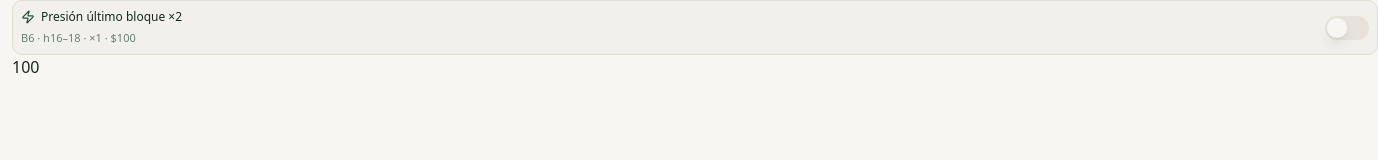
Scenario: Bloques final-block press › selects ×2 and restores ×1 when switched off
Click the switch: click(1347, 28) [1325,16,1369,40]
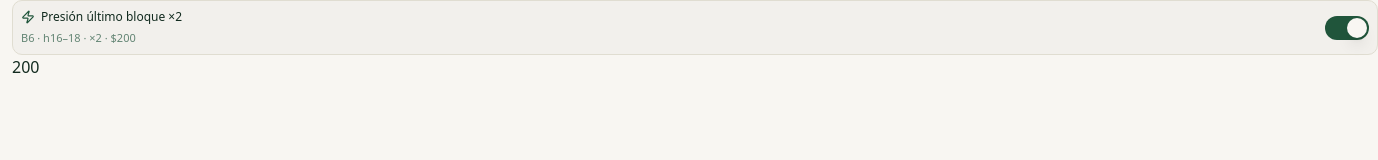
Expected: the text with test id "stake" reads "200", [12,56,40,78]
Click the switch: click(1347, 28) [1325,16,1369,40]
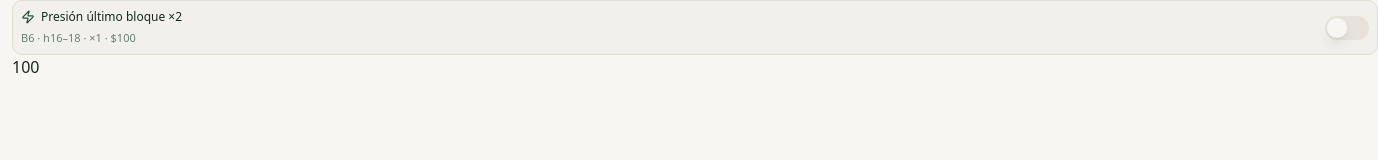
Expected: the text with test id "stake" reads "100", [12,56,40,78]
